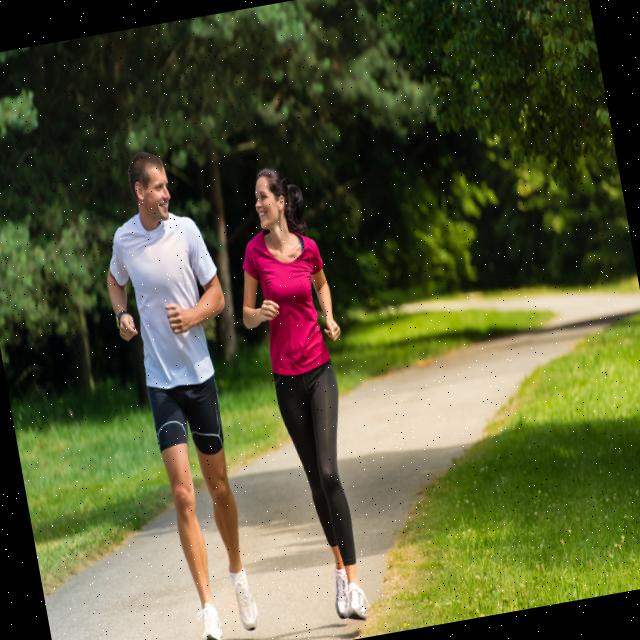Person: (86, 141, 283, 640), (218, 158, 390, 633)
